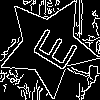E: (23, 21, 78, 73)
